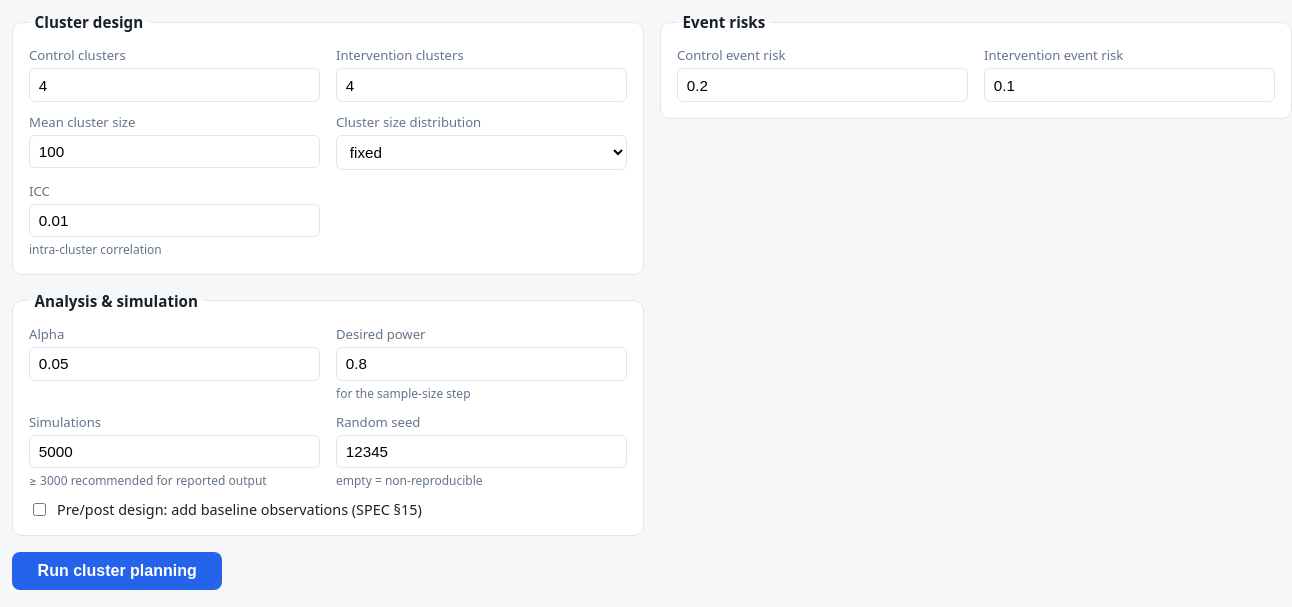
Test: ClusterTrials › marks the ICC field on an icc_out_of_bounds 422 from either endpoint
This screenshot has width=1292, height=607.
Click the button with test id "run-button" at (117, 571), box [12, 552, 222, 590]
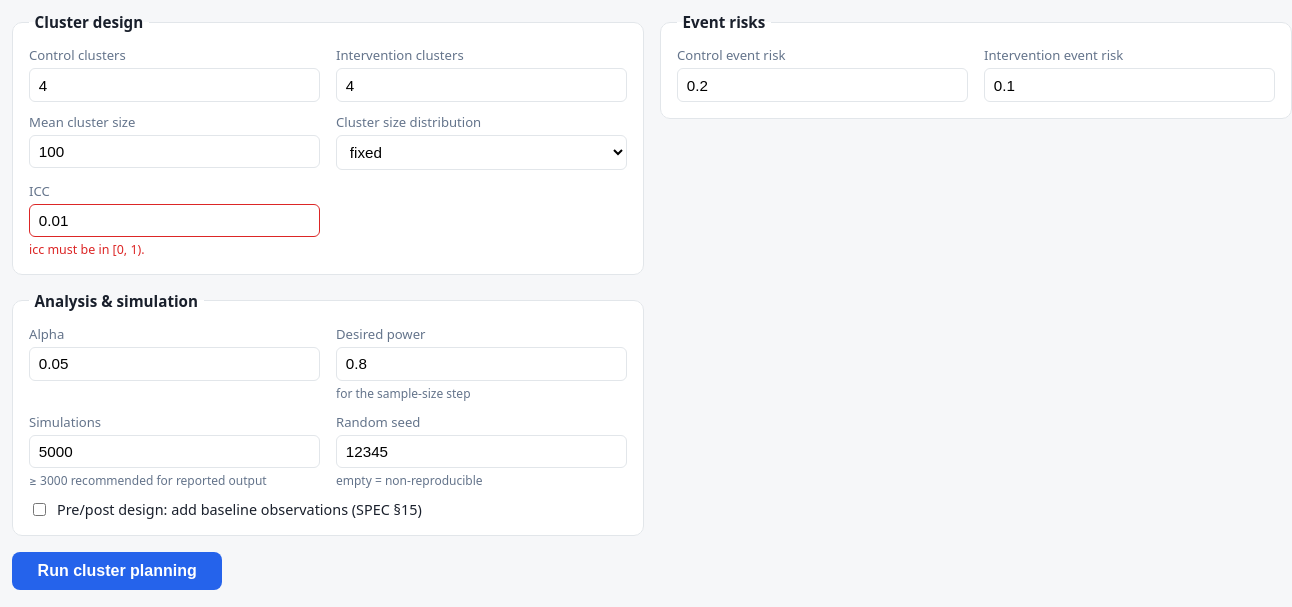
Now the message reads "icc must be in [0, 1).", box [29, 241, 145, 258]
